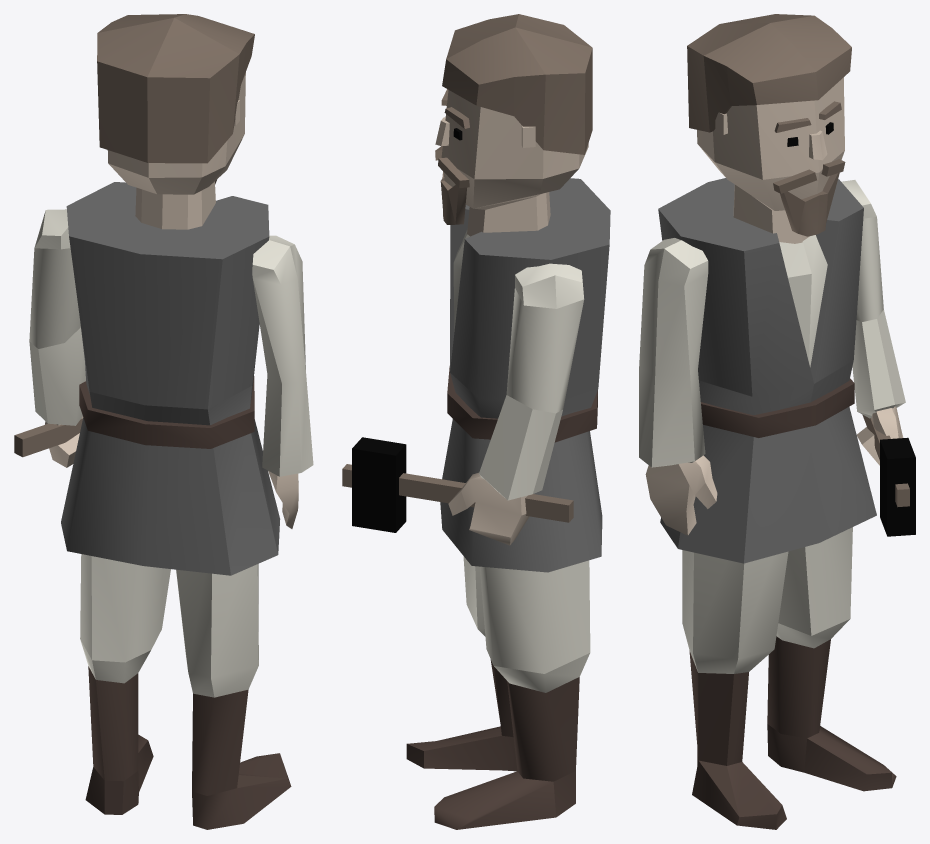
Rendered from tahta kesen adam.fbx.
The picture shows the model from 3 angles, left to right: view 1: azimuth 30°, elevation 25°; view 2: azimuth 150°, elevation 25°; view 3: azimuth 270°, elevation 25°; orthographic projection. The views are drawn at different scales.
Parts seen in each view (by area): view 1: Model; view 2: Model; view 3: Model.
Part boxes in pixels (x1,y1,x2,y2): Model: (14, 14, 313, 829); Model: (342, 14, 610, 829); Model: (639, 14, 915, 829).
Bounding box in the file's own units: 19.91 × 68.73 × 22.74.
